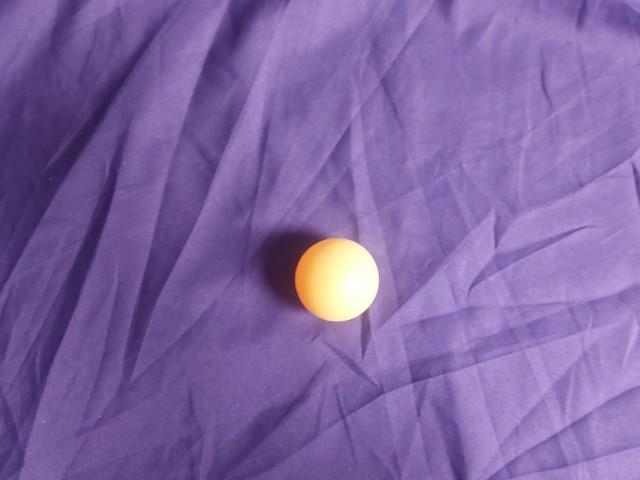oball: (253, 151, 355, 249)
